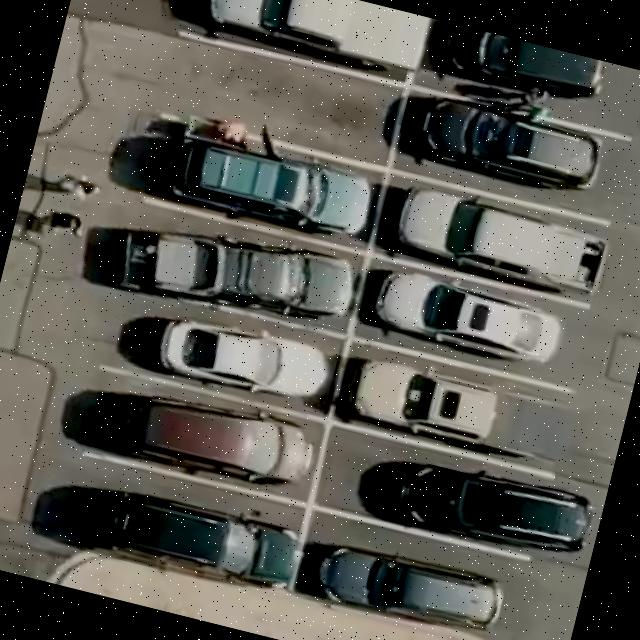empty: (168, 31, 403, 169)
occupied: (157, 141, 386, 244), (403, 80, 612, 192), (128, 218, 352, 322), (395, 448, 599, 554), (317, 544, 516, 638), (410, 191, 602, 281), (381, 276, 575, 365), (132, 395, 314, 481), (344, 352, 513, 444), (162, 318, 334, 408), (198, 0, 410, 69), (441, 28, 618, 106), (127, 506, 291, 587)
